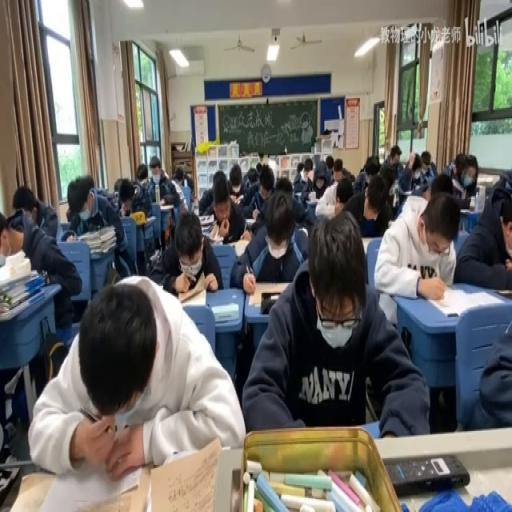calculator: (26, 454, 146, 510), (148, 437, 222, 509), (426, 283, 503, 319), (248, 278, 290, 308), (0, 266, 38, 296), (76, 224, 114, 242), (210, 300, 238, 322), (179, 286, 206, 307), (131, 212, 157, 227), (90, 244, 115, 258), (233, 236, 250, 256), (360, 236, 375, 255), (476, 174, 496, 186), (198, 213, 214, 225), (206, 233, 222, 245), (148, 248, 160, 264), (295, 226, 307, 239), (200, 222, 214, 233), (302, 196, 318, 205), (158, 202, 174, 210), (243, 216, 256, 225), (459, 205, 475, 212), (192, 199, 198, 215), (294, 190, 302, 198), (402, 189, 411, 194)
paper: (28, 272, 242, 476), (244, 208, 426, 436), (2, 196, 82, 333), (453, 173, 512, 291), (66, 172, 130, 280), (150, 209, 221, 296), (466, 298, 512, 430), (338, 170, 392, 238), (146, 154, 180, 212), (198, 165, 230, 215), (234, 161, 262, 216), (302, 159, 332, 202), (394, 152, 420, 198), (0, 220, 25, 256), (492, 169, 512, 205), (462, 154, 478, 196), (416, 148, 435, 183), (296, 199, 318, 229), (331, 155, 353, 183), (378, 161, 396, 193), (428, 174, 454, 196), (363, 155, 379, 178), (264, 156, 278, 182), (134, 163, 148, 185), (275, 174, 292, 190), (388, 146, 402, 165), (410, 182, 428, 195), (104, 189, 117, 206), (113, 178, 123, 199), (118, 192, 130, 209), (184, 172, 194, 192), (174, 166, 184, 185), (325, 155, 334, 176), (229, 175, 240, 192), (260, 150, 269, 164), (255, 162, 262, 175), (304, 164, 311, 176), (297, 162, 303, 175), (160, 169, 167, 179)
person: (384, 452, 470, 494), (0, 462, 21, 506), (228, 466, 241, 510), (493, 289, 512, 297)
